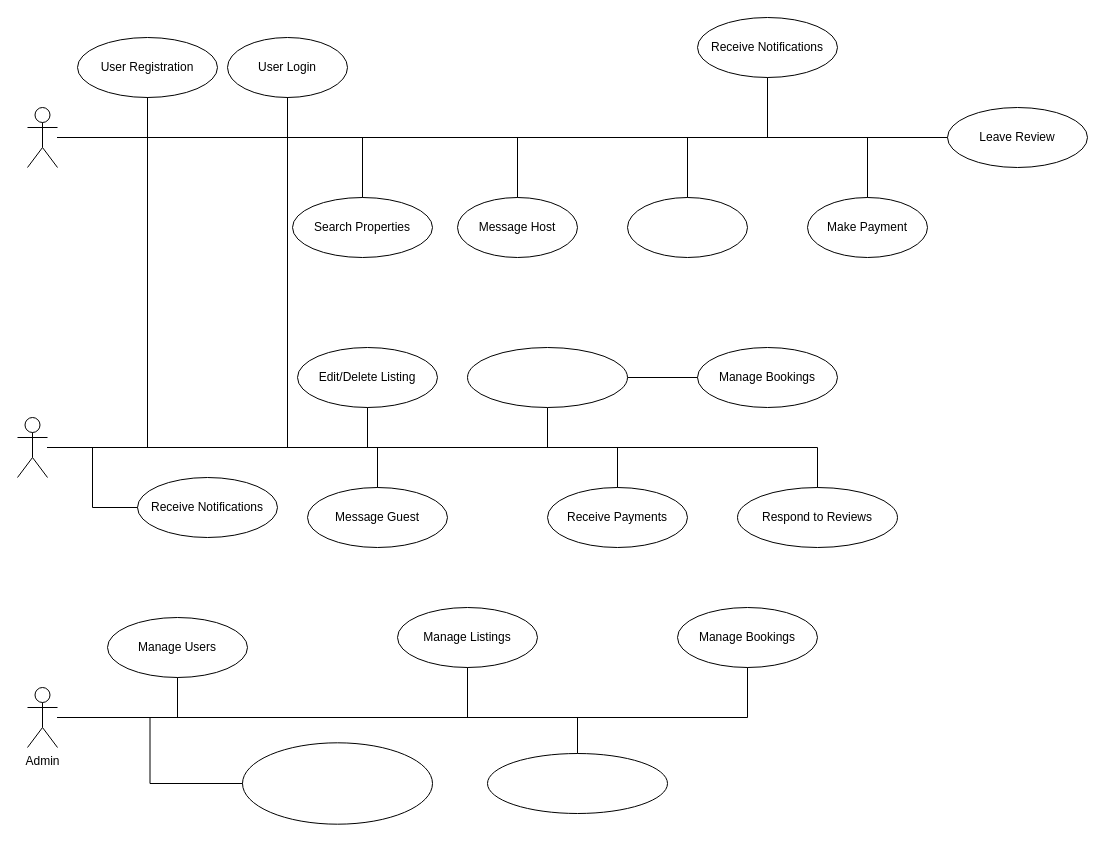
The diagram is 1105 pixels wide and 842 high, and some of its shapes have lost their labels. Here are the shapes that lost their labels. From the top down, the centre of each, then its label:
At (x=42, y=137): "Guest".
At (x=687, y=227): "Book Property".
At (x=547, y=377): "Add Property Listing".
At (x=32, y=447): "Host".
At (x=337, y=783): "Manage Payments".
At (x=577, y=783): "View Reports / Dashboard".
